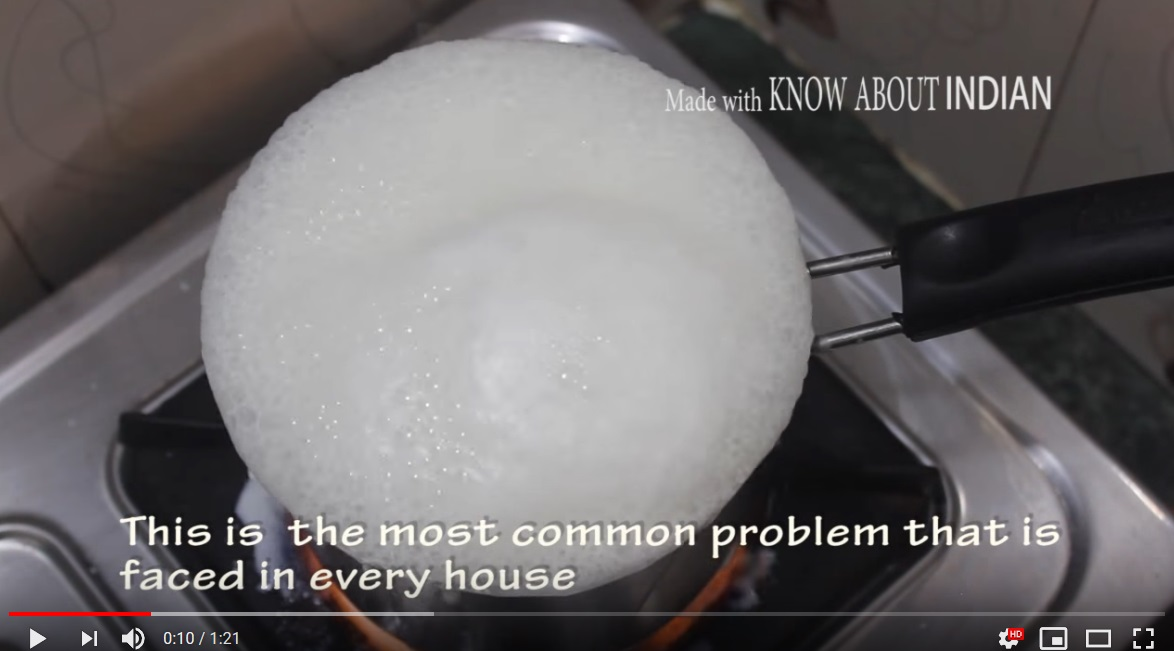Boiled: (198, 25, 801, 602)
